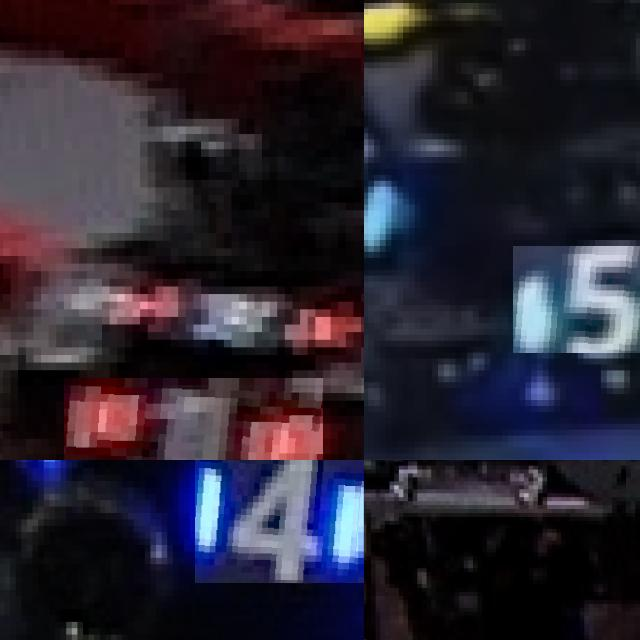B4: (195, 460, 363, 583)
B5: (513, 246, 640, 352)
R1: (64, 378, 323, 460)
